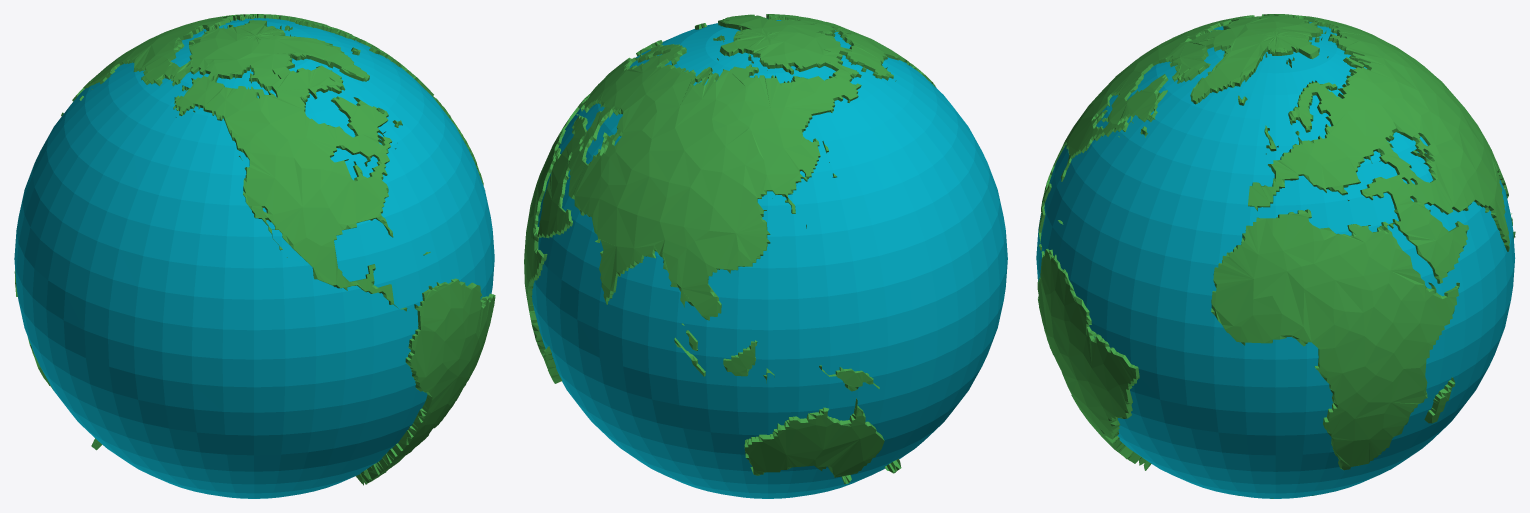
Rendered from Globe.glb.
The picture shows the model from 3 angles, left to right: view 1: azimuth 30°, elevation 25°; view 2: azimuth 150°, elevation 25°; view 3: azimuth 270°, elevation 25°; orthographic projection.
Parts seen in each view (by area): view 1: Mesh_Mesh_head_geo.001_lambert2SG.001; view 2: Mesh_Mesh_head_geo.001_lambert2SG.001; view 3: Mesh_Mesh_head_geo.001_lambert2SG.001.
Boxes of the visible parts, x1,y1,x2,y2 form: Mesh_Mesh_head_geo.001_lambert2SG.001: (14,14,495,498); Mesh_Mesh_head_geo.001_lambert2SG.001: (524,14,1007,498); Mesh_Mesh_head_geo.001_lambert2SG.001: (1036,14,1515,498).
Size of the model in its own units: 146 by 147 by 145.
